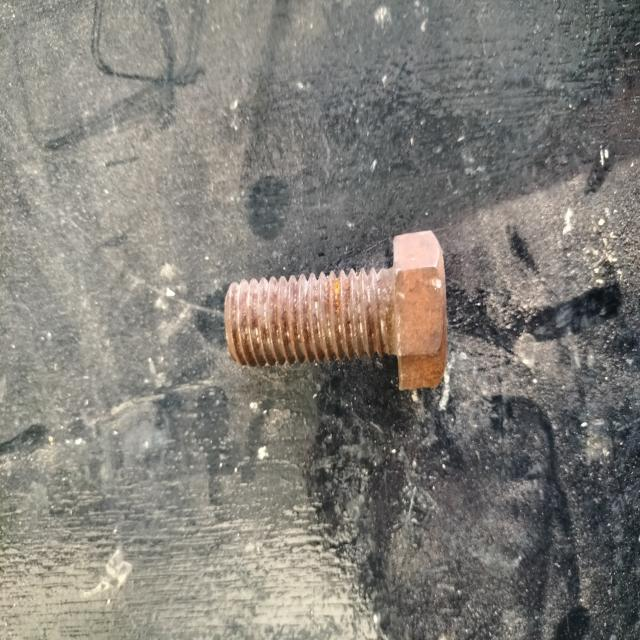bolt: (224, 231, 447, 390)
